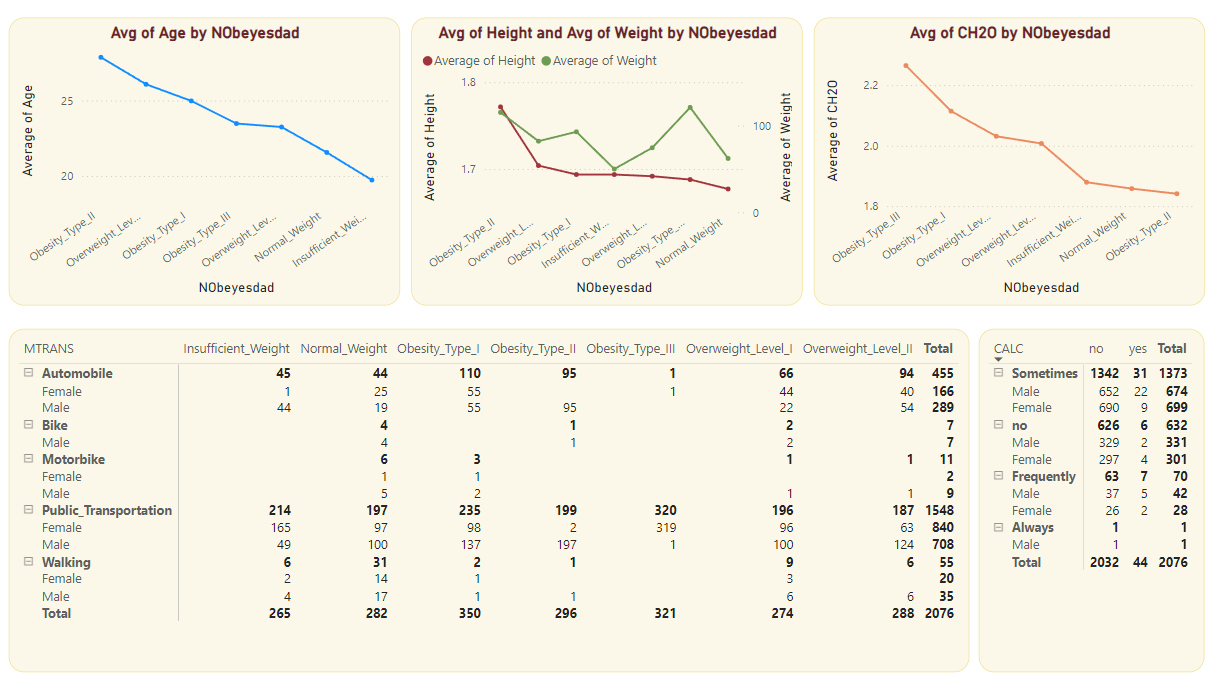

The dashboard page shown, as its layout file describes it:
{"tool":"powerbi","page":{"name":"Page 4","canvas":[1280,720],"ordinal":3},"visuals":[{"type":"lineChart","title":"Avg of Age by NObeyesdad","fields":{"Category":["obersity.NObeyesdad"],"Y":["Avg(obersity.Age)"]},"box":[9.8,18.3,412.1,303.3],"z":0},{"type":"lineChart","title":"Avg of Height and Avg of Weight by NObeyesdad","fields":{"Category":["obersity.NObeyesdad"],"Y":["Avg(obersity.Height)"],"Y2":["Avg(obersity.Weight)"]},"box":[432.9,18.3,412.1,303.3],"z":1000},{"type":"lineChart","title":"Avg of CH2O by NObeyesdad","fields":{"Category":["obersity.NObeyesdad"],"Y":["Avg(obersity.CH2O)"]},"box":[856,18.3,412.1,303.3],"z":2000},{"type":"pivotTable","fields":{"Rows":["obersity.MTRANS","obersity.Gender"],"Values":["CountNonNull(obersity.NObeyesdad)"],"Columns":["obersity.NObeyesdad"]},"box":[9.8,346.1,1011.3,362],"z":3000},{"type":"pivotTable","fields":{"Rows":["obersity.CALC","obersity.Gender"],"Values":["CountNonNull(obersity.NObeyesdad)"],"Columns":["obersity.SMOKE"]},"box":[1030.8,346.1,237.2,362],"z":4000}]}

Visuals, with their boxes in screenshot pixels (x1, y1, x2, y2), scaled from the page's 1280x720 canvas onto the 1213x677 screenshot:
"Avg of Age by NObeyesdad" lineChart: [9,17,400,302]
"Avg of Height and Avg of Weight by NObeyesdad" lineChart: [410,17,801,302]
"Avg of CH2O by NObeyesdad" lineChart: [811,17,1202,302]
pivotTable - obersity.MTRANS x obersity.Gender: [9,325,968,666]
pivotTable - obersity.CALC x obersity.Gender: [977,325,1202,666]
